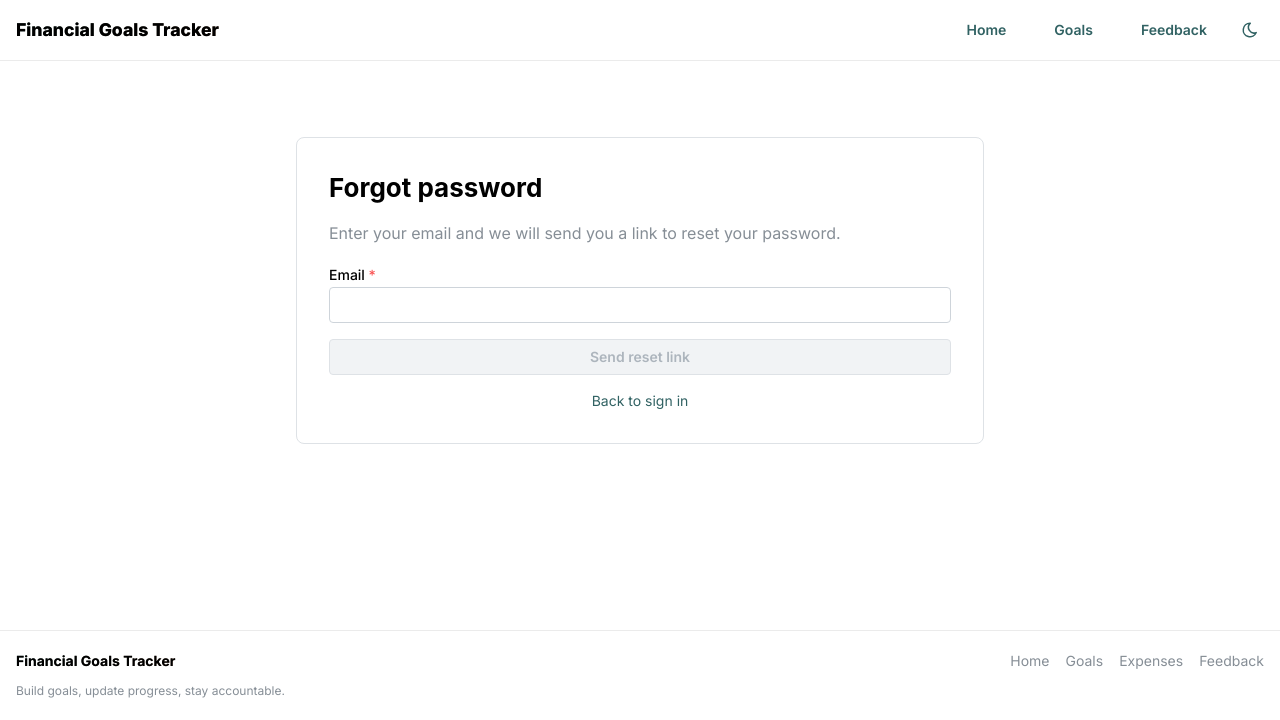
Forgot Password Page › clears email error when user types valid email
The width and height of the screenshot is (1280, 720).
In the field labelled "Email *": (640, 305) [329,287,951,323], type "bad"
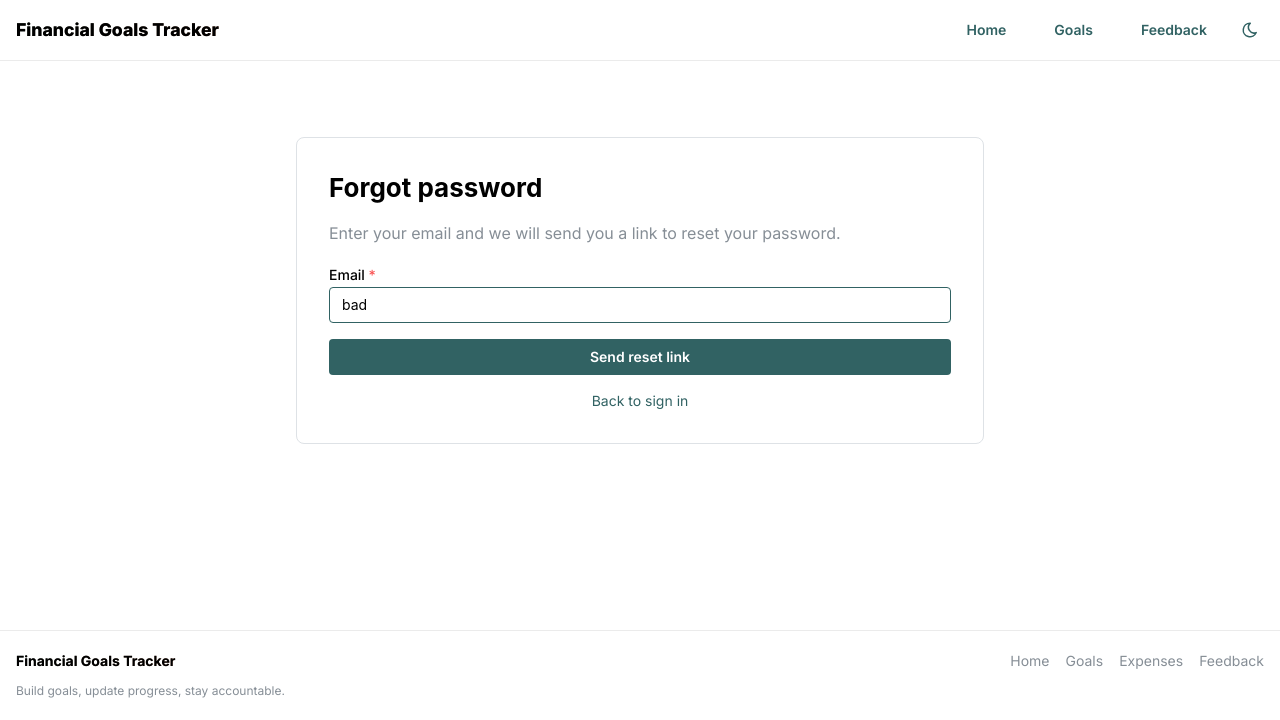
Click the button "Send reset link": (640, 357) [329,339,951,375]
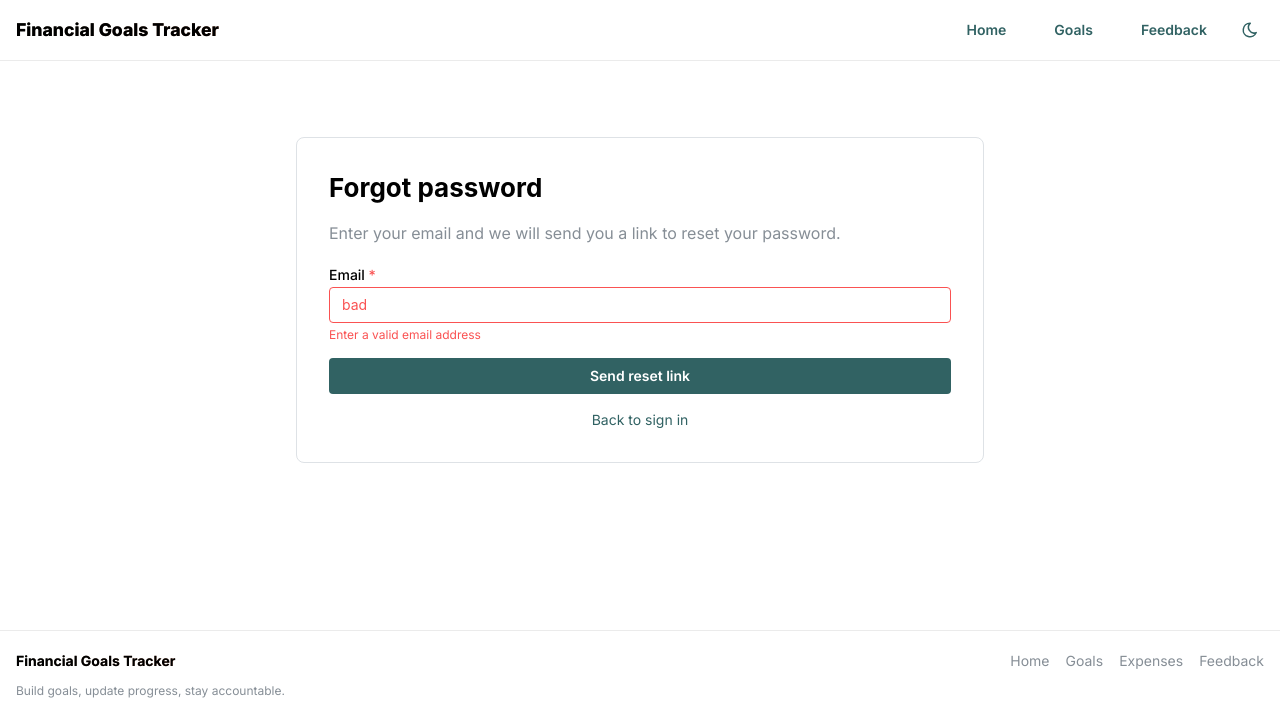
Expected: the text "Enter a valid email address" is shown, [329,327,481,342]
Replace the text in the field labelled "Email *" with "valid@example.com": (640, 305) [329,287,951,323]
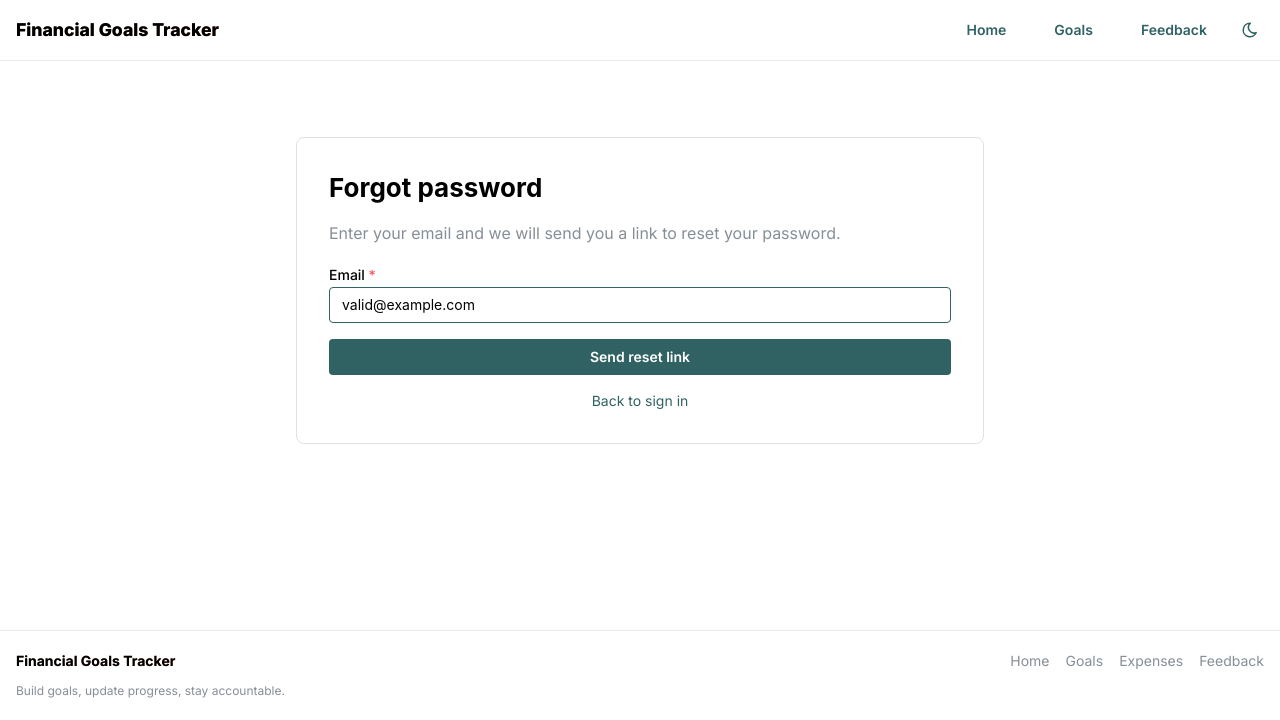
Expected: the text "Enter a valid email address" is gone
